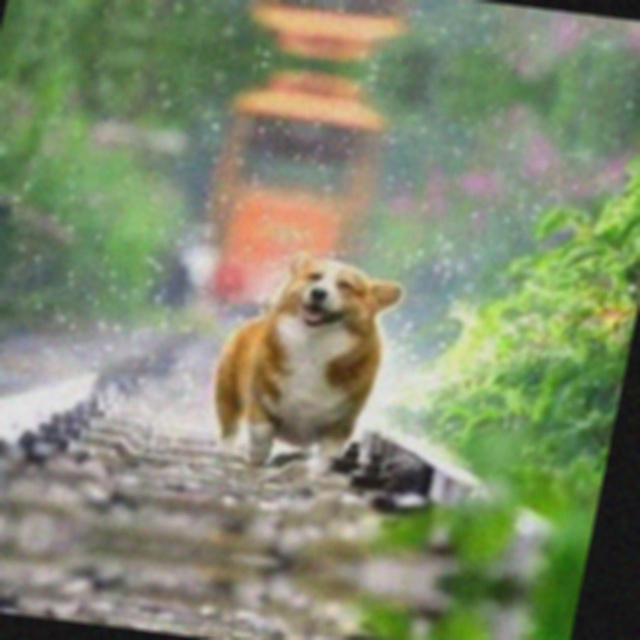dog: (183, 228, 423, 483)
